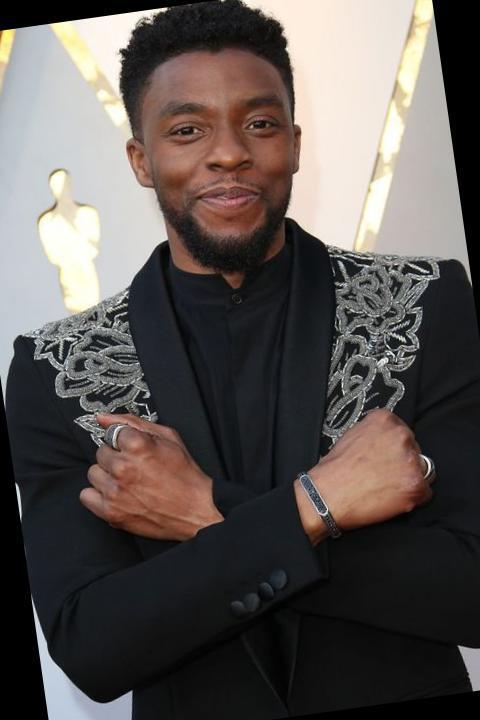Sober: (157, 62, 295, 225)
